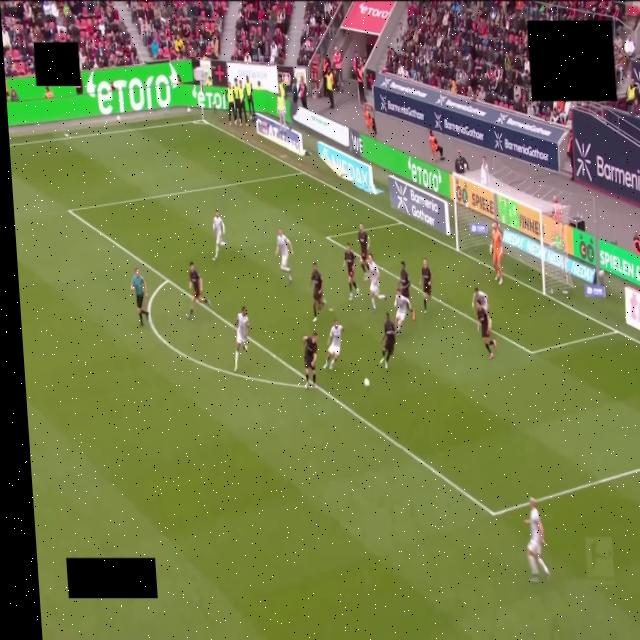ball: (364, 378, 370, 387)
player: (525, 498, 549, 582), (187, 262, 210, 319), (476, 300, 496, 359), (366, 254, 386, 311), (234, 306, 249, 372), (276, 228, 293, 283), (324, 320, 343, 368), (380, 313, 396, 368), (344, 243, 359, 300), (303, 332, 318, 389), (472, 288, 492, 328), (490, 223, 503, 284), (311, 263, 324, 321), (395, 288, 411, 333), (213, 209, 225, 260), (358, 224, 369, 279), (421, 259, 432, 312), (399, 261, 410, 302)
referee: (131, 269, 148, 325)
